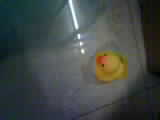duck: (86, 42, 122, 77)
